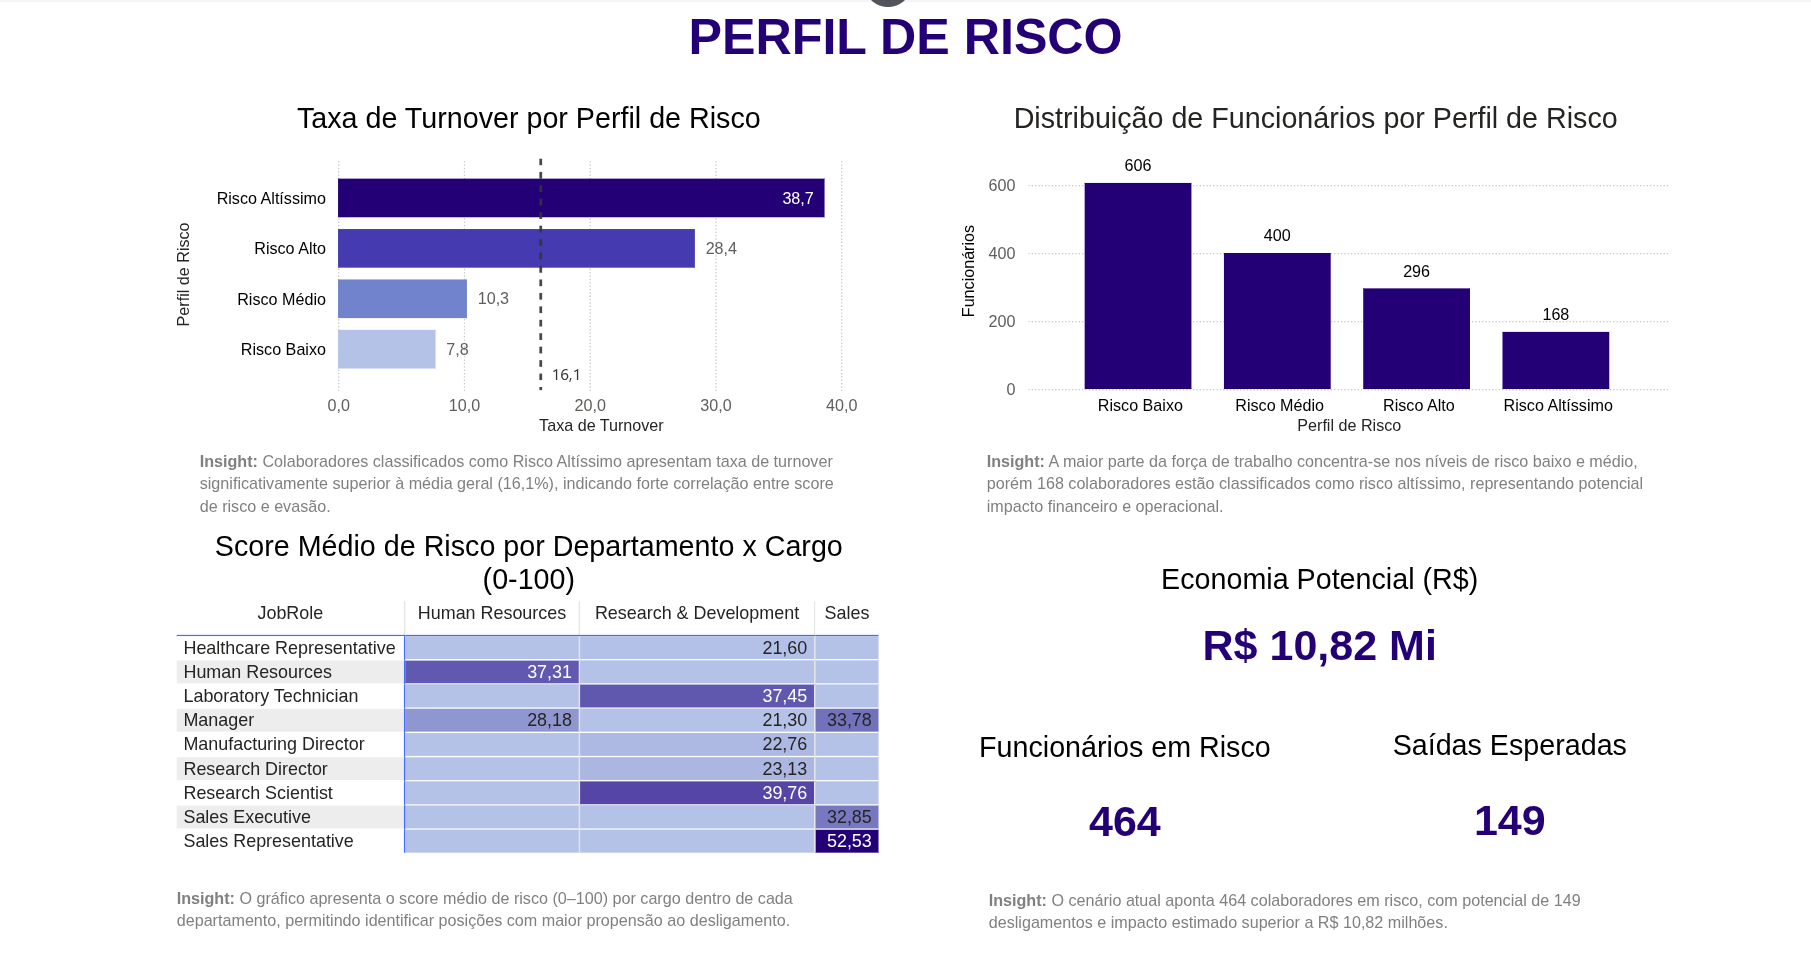

The page's visual inventory and layout, read from the dashboard file:
{"tool":"powerbi","page":{"name":"Perfil de Risco","canvas":[1280,720],"ordinal":2},"visuals":[{"type":"textbox","box":[0,0,1280.3,67.2],"z":0},{"type":"clusteredBarChart","title":"Taxa de Turnover por Perfil de Risco","fields":{"Category":["WA_Fn-UseC_-HR-Employee-Attrition.Perfil_Risco"],"Y":["WA_Fn-UseC_-HR-Employee-Attrition.Taxa_Turnover"]},"box":[93.3,74.1,533.8,252.5],"z":1000},{"type":"clusteredColumnChart","title":"Distribuição de Funcionários por Perfil de Risco","fields":{"Category":["WA_Fn-UseC_-HR-Employee-Attrition.Perfil_Risco"],"Y":["WA_Fn-UseC_-HR-Employee-Attrition.Total_Funcionarios"]},"box":[676.5,74.1,536.5,252.5],"z":2000},{"type":"textbox","box":[109.8,326.6,498.1,65.9],"z":3000},{"type":"textbox","box":[695.6,326.4,500.3,65.6],"z":4000},{"type":"textbox","box":[697,652.8,500.3,54.2],"z":5000},{"type":"pivotTable","title":"Score Médio de Risco por Departamento x Cargo (0-100)","fields":{"Rows":["WA_Fn-UseC_-HR-Employee-Attrition.JobRole"],"Columns":["WA_Fn-UseC_-HR-Employee-Attrition.Department"],"Values":["WA_Fn-UseC_-HR-Employee-Attrition.Score_Medio_Risco"]},"box":[93.3,392.4,533.8,259.4],"z":6000},{"type":"textbox","box":[92.9,651.8,514.8,55],"z":7000},{"type":"card","title":"Funcionários em Risco","fields":{"Values":["WA_Fn-UseC_-HR-Employee-Attrition.Funcionarios_Em_Risco"]},"box":[678.5,542.5,249.7,108.4],"z":9000,"group":"g1"},{"type":"card","title":"Saídas Esperadas","fields":{"Values":["WA_Fn-UseC_-HR-Employee-Attrition.Saidas_Em_Risco"]},"box":[963.9,541.1,251.1,109.8],"z":10000,"group":"g1"},{"type":"card","title":"Economia Potencial (R$)","fields":{"Values":["WA_Fn-UseC_-HR-Employee-Attrition.Economia_Potencial"]},"box":[679.9,417.6,536.5,96.1],"z":11000,"group":"g1"},{"type":"group","id":"g1","title":"Grupo 1","box":[678.5,417.6,537.4,233.8],"z":11001}]}

Visuals, with their boxes on the page's 1280x720 design canvas (x1, y1, x2, y2). These are canvas units, not pixel positions in the 1811x966 screenshot, which may show the page scaled, cropped or inside an application window:
textbox: [x1=0, y1=0, x2=1280, y2=67]
"Taxa de Turnover por Perfil de Risco" clusteredBarChart: [x1=93, y1=74, x2=627, y2=327]
"Distribuição de Funcionários por Perfil de Risco" clusteredColumnChart: [x1=676, y1=74, x2=1213, y2=327]
textbox: [x1=110, y1=327, x2=608, y2=392]
textbox: [x1=696, y1=326, x2=1196, y2=392]
textbox: [x1=697, y1=653, x2=1197, y2=707]
"Score Médio de Risco por Departamento x Cargo (0-100)" pivotTable: [x1=93, y1=392, x2=627, y2=652]
textbox: [x1=93, y1=652, x2=608, y2=707]
"Funcionários em Risco" card: [x1=678, y1=542, x2=928, y2=651]
"Saídas Esperadas" card: [x1=964, y1=541, x2=1215, y2=651]
"Economia Potencial (R$)" card: [x1=680, y1=418, x2=1216, y2=514]
"Grupo 1" group: [x1=678, y1=418, x2=1216, y2=651]
